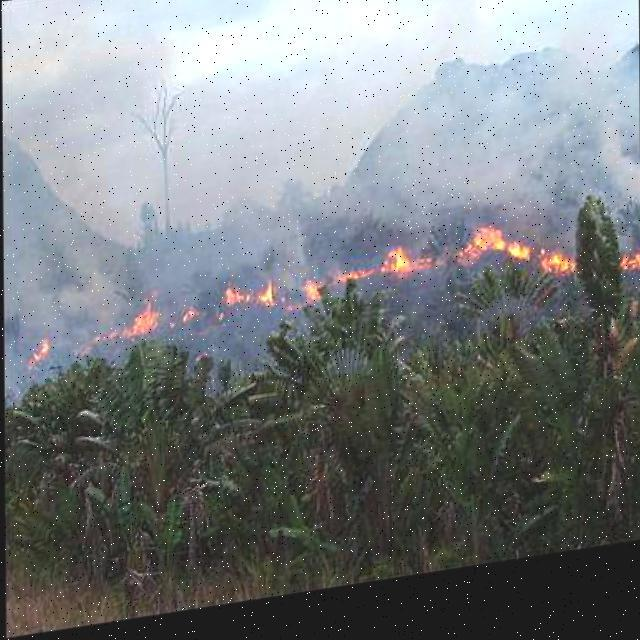Fire: (456, 227, 570, 309), (215, 275, 322, 328), (374, 253, 426, 292), (124, 307, 158, 350)
